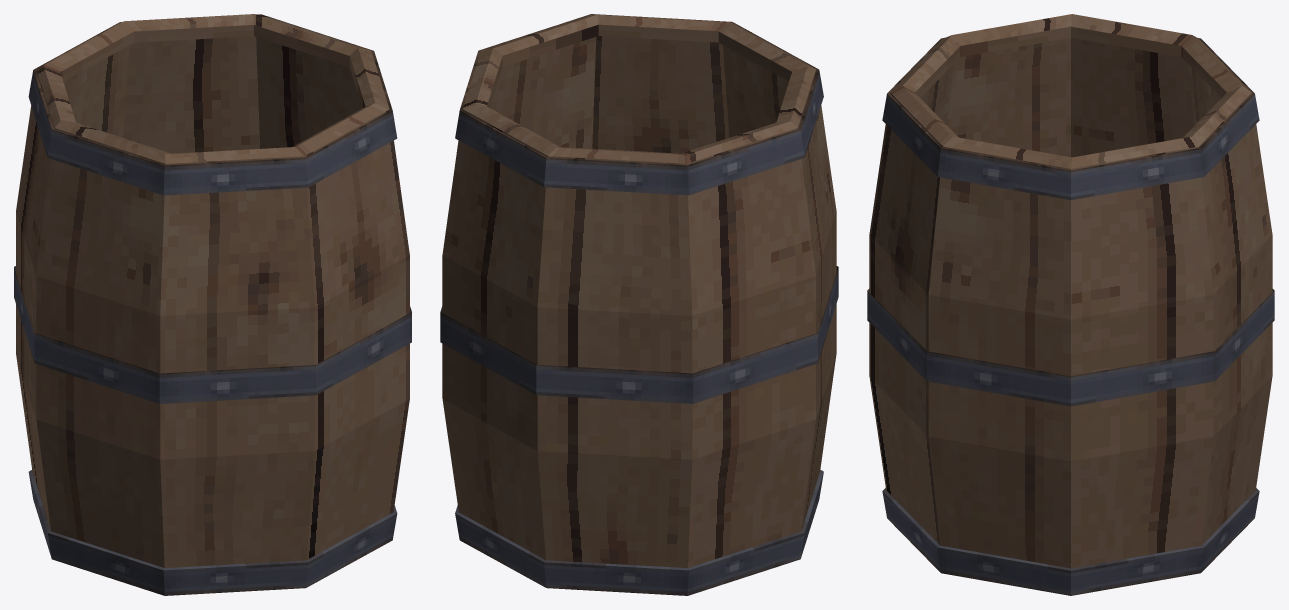
The model's file is barrel_open.glb.
The picture shows the model from 3 angles, left to right: view 1: azimuth 30°, elevation 25°; view 2: azimuth 150°, elevation 25°; view 3: azimuth 270°, elevation 25°; orthographic projection.
Parts seen in each view (by area): view 1: barrel_open; view 2: barrel_open; view 3: barrel_open.
Boxes of the visible parts, x1,y1,x2,y2 form: barrel_open: [14, 14, 411, 595]; barrel_open: [440, 14, 838, 595]; barrel_open: [867, 14, 1274, 595].
Size of the model in its own units: 0.9799 by 1.14 by 0.9799.
Materials: 2 (2 with a texture image).
